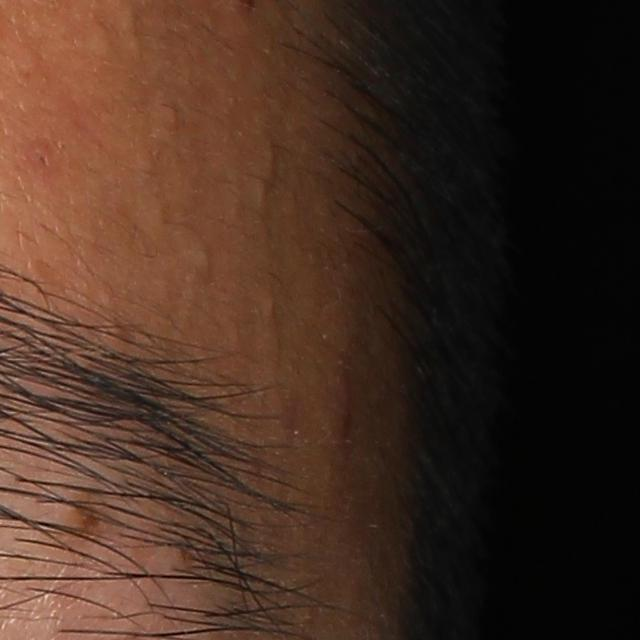comedo: (115, 0, 140, 32), (254, 176, 272, 207)
